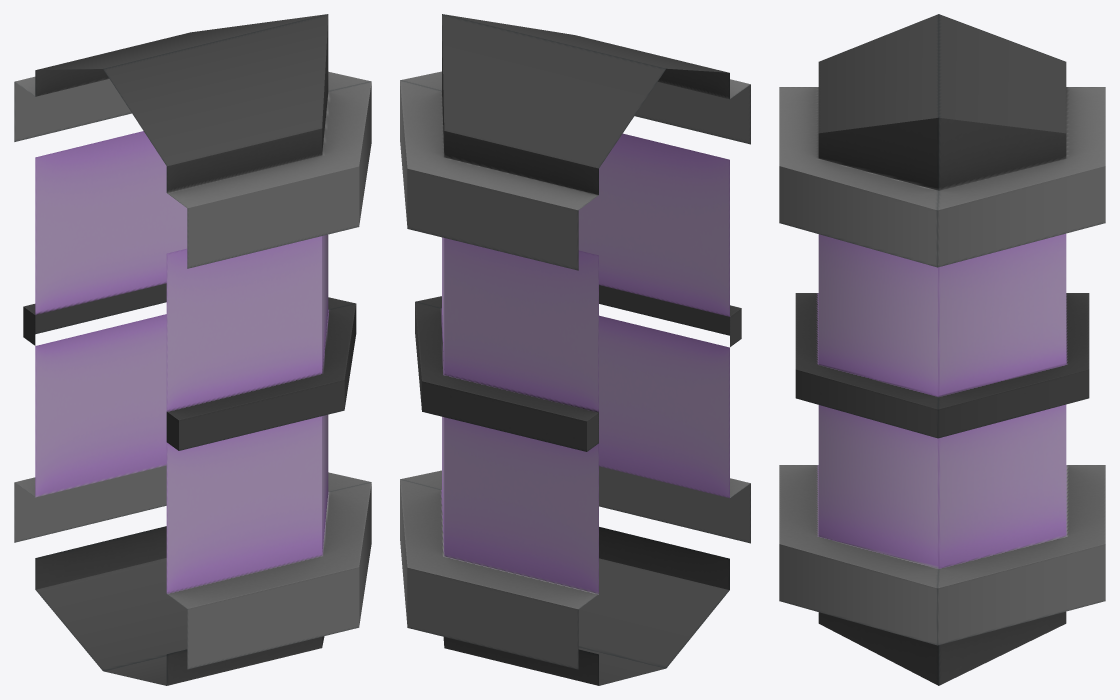
Rendered from Vat 2.fbx.
3 renders of one model, left to right at view 1: azimuth 30°, elevation 25°; view 2: azimuth 150°, elevation 25°; view 3: azimuth 270°, elevation 25°, orthographic. The views are drawn at different scales.
Parts seen in each view (by area): view 1: pCube1; view 2: pCube1; view 3: pCube1.
Part boxes in pixels (bbox=[...]): pCube1: bbox=[14, 14, 371, 685]; pCube1: bbox=[400, 14, 750, 685]; pCube1: bbox=[779, 14, 1105, 685].
Size of the model in its own units: 60.47 by 130 by 67.52.
1 material, 1 textured.
